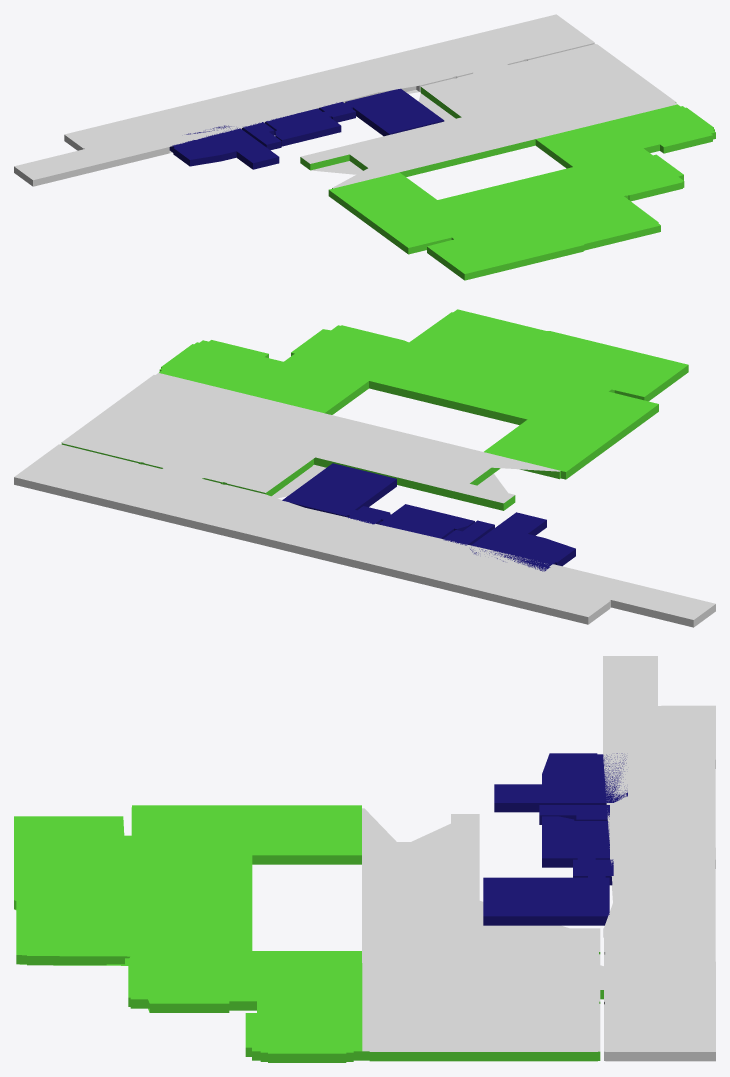
The model's file is RecSecondFloorNoWallB2B2.fbx.
3 renders of one model, top to bottom at view 1: azimuth 30°, elevation 25°; view 2: azimuth 150°, elevation 25°; view 3: azimuth 270°, elevation 25°, orthographic. The views are drawn at different scales.
Parts seen in each view (by area): view 1: Cube; view 2: Cube; view 3: Cube.
Boxes of the visible parts, x1,y1,x2,y2 form: Cube: (14,14,715,280); Cube: (14,309,715,627); Cube: (14,656,715,1062).
Bounding box in the file's own units: 16768 × 184 × 12512.
